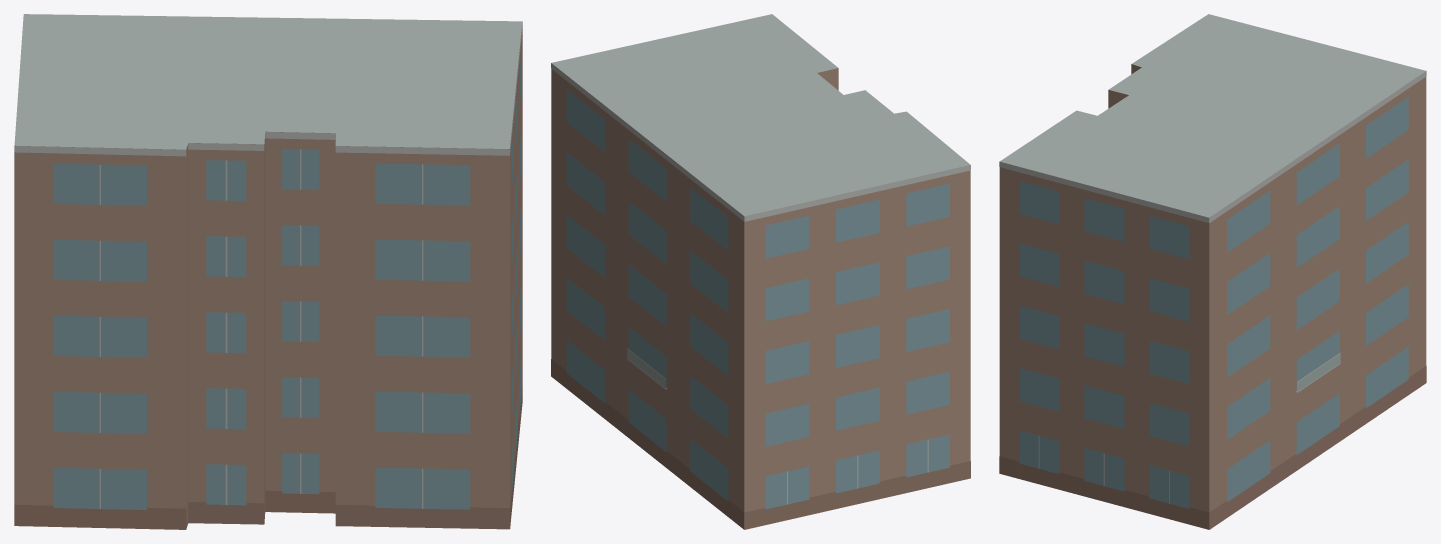
The model's file is survey-upis-33001187.glb.
3 renders of one model, left to right at view 1: azimuth 30°, elevation 25°; view 2: azimuth 150°, elevation 25°; view 3: azimuth 270°, elevation 25°, orthographic. The views are drawn at different scales.
Visible parts, largest first — view 1: survey-upis-33001187.tmp; view 2: survey-upis-33001187.tmp; view 3: survey-upis-33001187.tmp.
Part boxes in pixels (bbox=[...]): survey-upis-33001187.tmp: bbox=[14, 14, 522, 529]; survey-upis-33001187.tmp: bbox=[551, 14, 970, 529]; survey-upis-33001187.tmp: bbox=[999, 14, 1426, 529].
Bounding box in the file's own units: 19.4 × 13.85 × 17.17.
